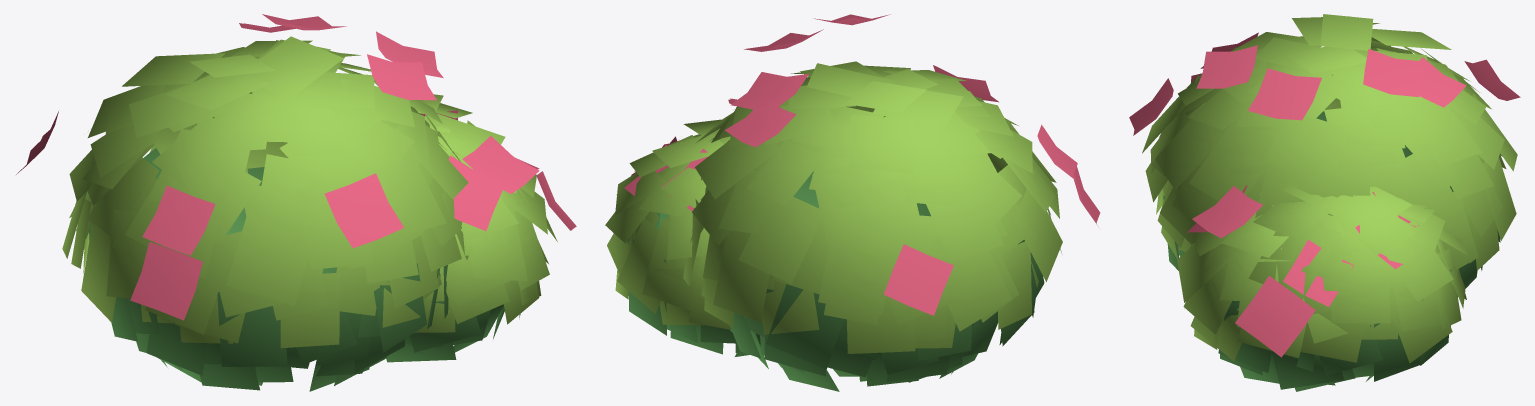
The model's file is plant_bush_0.glb.
The picture shows the model from 3 angles, left to right: view 1: azimuth 30°, elevation 25°; view 2: azimuth 150°, elevation 25°; view 3: azimuth 270°, elevation 25°; orthographic projection. The views are drawn at different scales.
Parts seen in each view (by area): view 1: plant_bush_0; view 2: plant_bush_0; view 3: plant_bush_0.
Part boxes in pixels (x1,y1,x2,y2): plant_bush_0: (16,14,576,391); plant_bush_0: (605,14,1100,391); plant_bush_0: (1129,14,1520,391).
Size of the model in its own units: 2.06 by 1.34 by 1.64.
